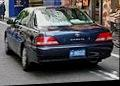License_Plate: (69, 46, 87, 58)
